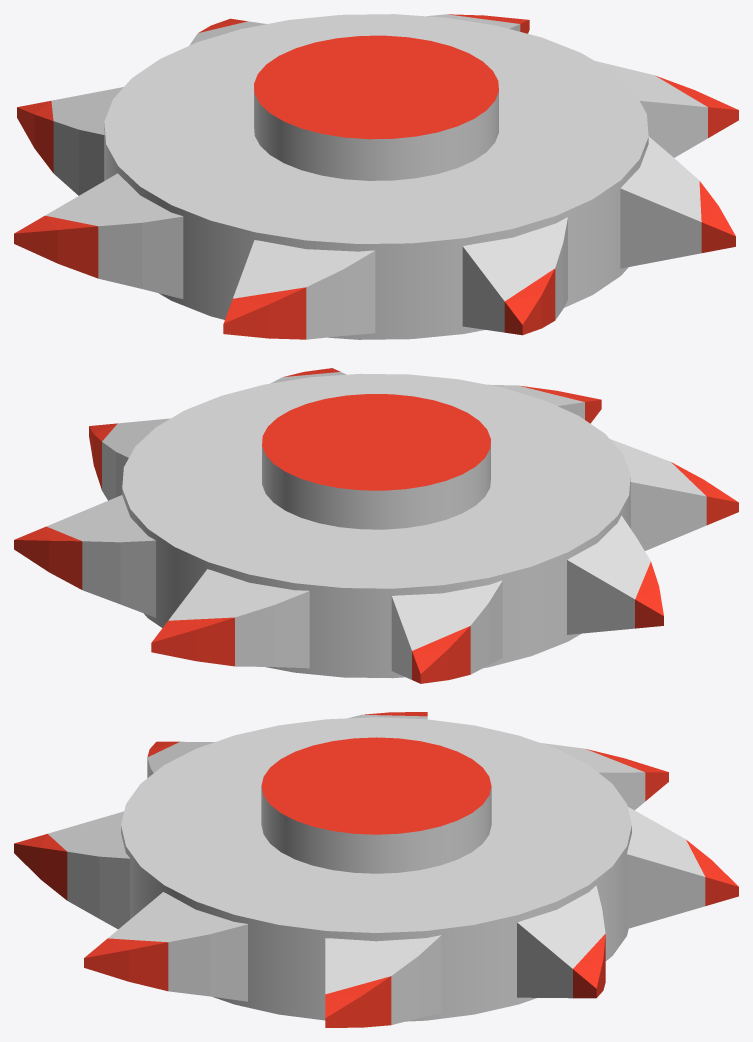
The model's file is Saw Red.fbx.
The picture shows the model from 3 angles, top to bottom: view 1: azimuth 30°, elevation 25°; view 2: azimuth 150°, elevation 25°; view 3: azimuth 270°, elevation 25°; orthographic projection. The views are drawn at different scales.
Visible parts, largest first — view 1: Saw A.002; view 2: Saw A.002; view 3: Saw A.002.
Part boxes in pixels (x1,y1,x2,y2): Saw A.002: [14, 14, 738, 339]; Saw A.002: [14, 368, 738, 683]; Saw A.002: [14, 712, 738, 1027].
Size of the model in its own units: 166 by 42.33 by 166.
